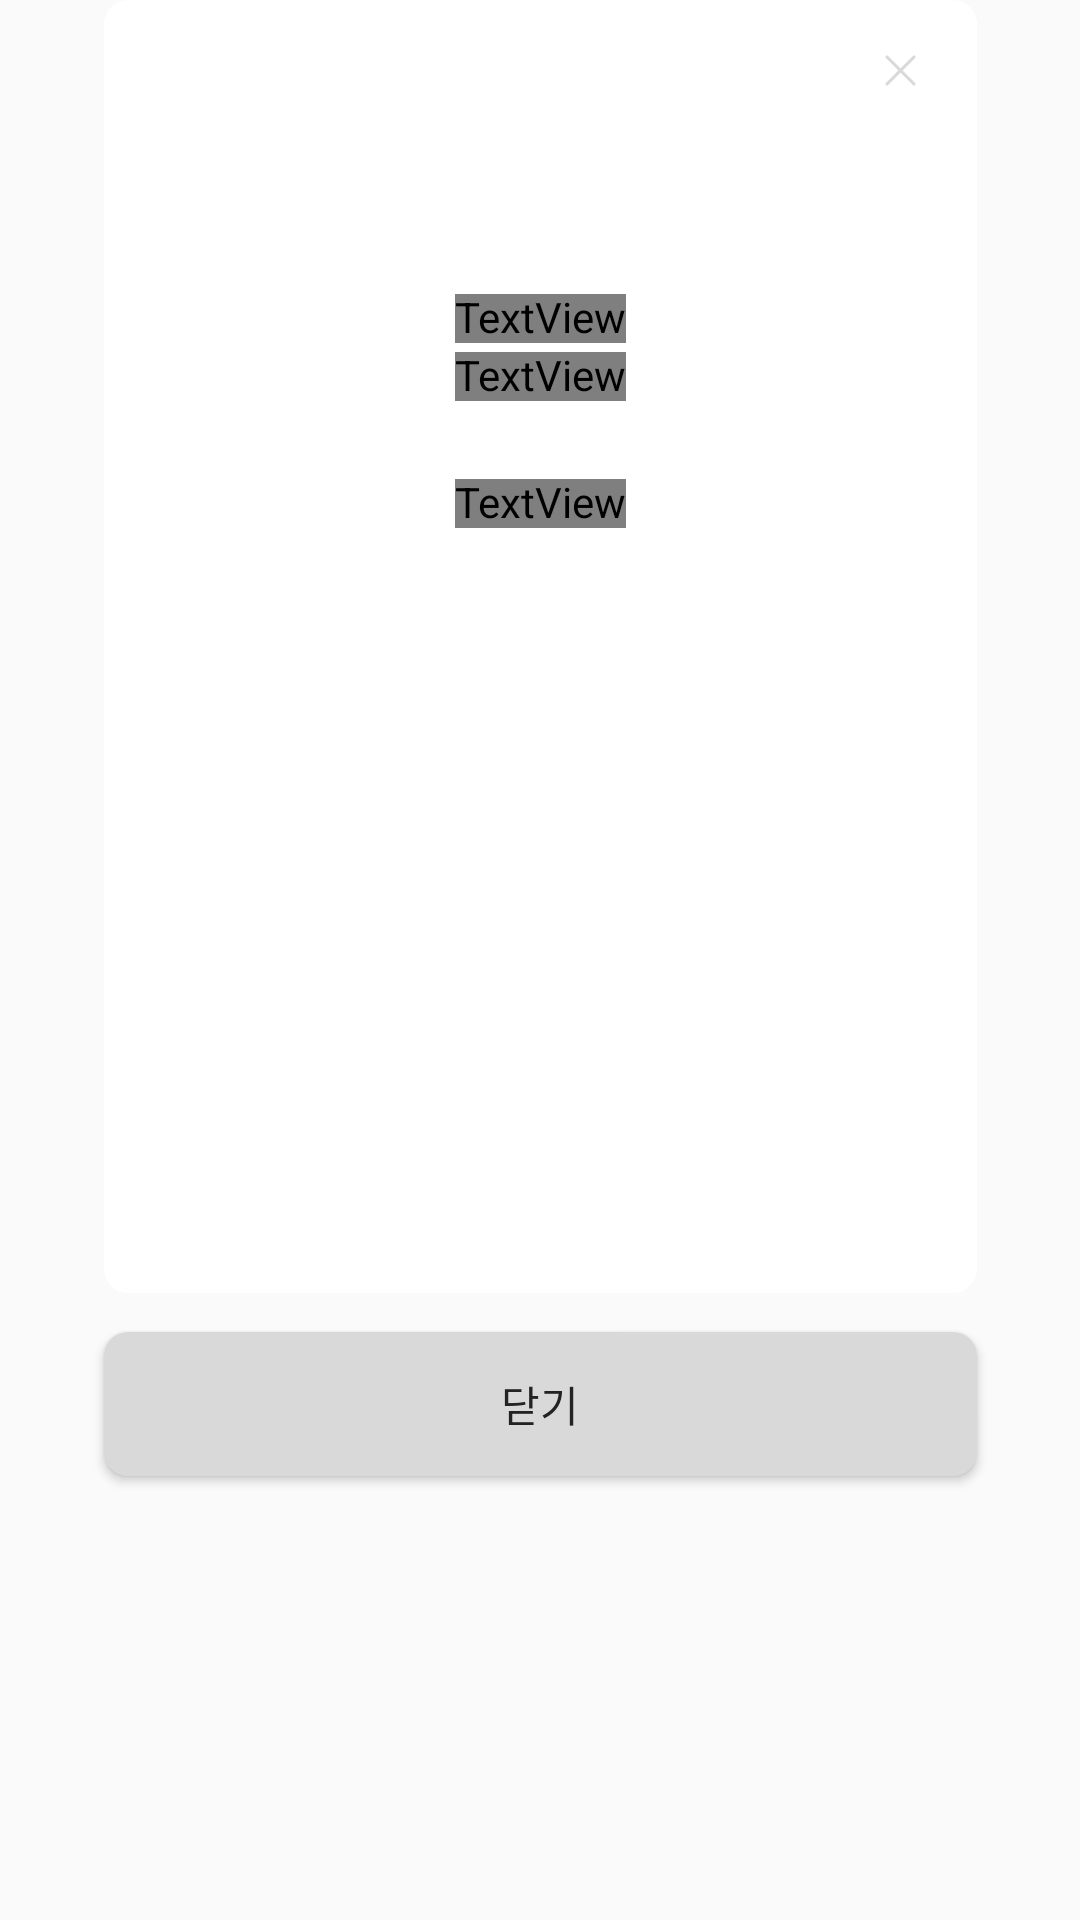

Named icons in this screenshot (1080 x 1920) and their bounding boxes, BBox(x1, y1, x2, y2):
close popup: BBox(886, 56, 915, 85)
